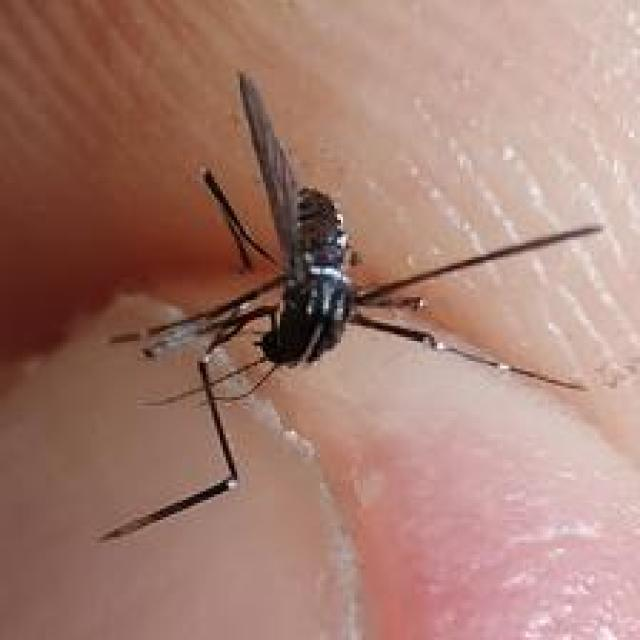Aedes albopictus: (96, 68, 604, 543)
